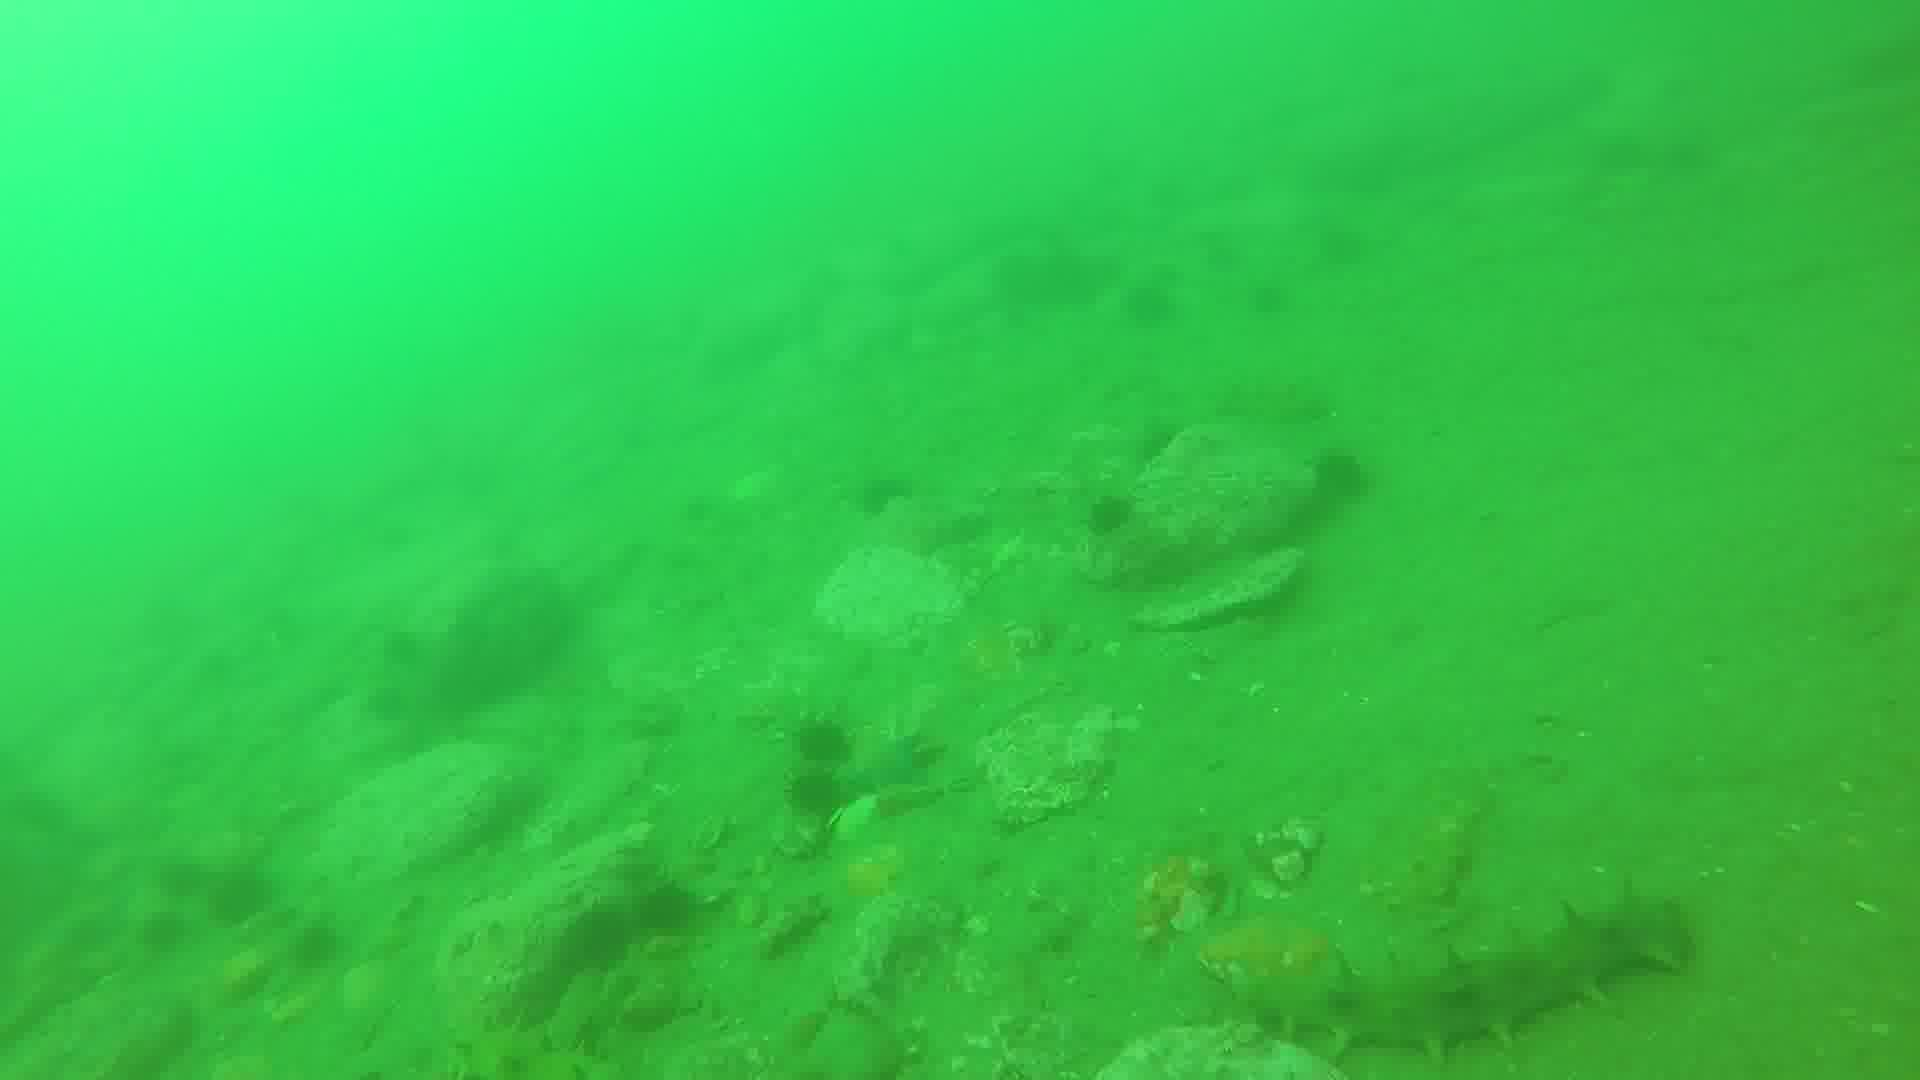echinus: (1317, 448, 1379, 517), (1113, 280, 1183, 340), (849, 471, 913, 524), (789, 767, 851, 816), (1089, 483, 1145, 535), (799, 716, 858, 765), (1311, 223, 1371, 269)
holothurian: (1242, 891, 1687, 1050)
starfish: (833, 736, 942, 804)
